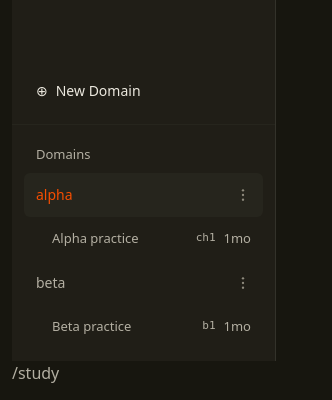
Sidebar domain menu › exposes rename and delete actions from the domain kebab menu
Expected: the link "alpha" is shown, [36,185,73,204]
What coordinates should you click on to do the following:
click the button named "Domain actions for alpha"
I would click on:
 (243, 194)
Its box is [227,178,259,210].
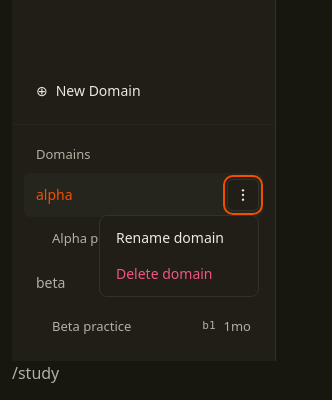
Result: the menu item "Rename domain" is shown at [104,220,254,256]
Result: the menu item "Delete domain" is shown at [104,256,254,292]
